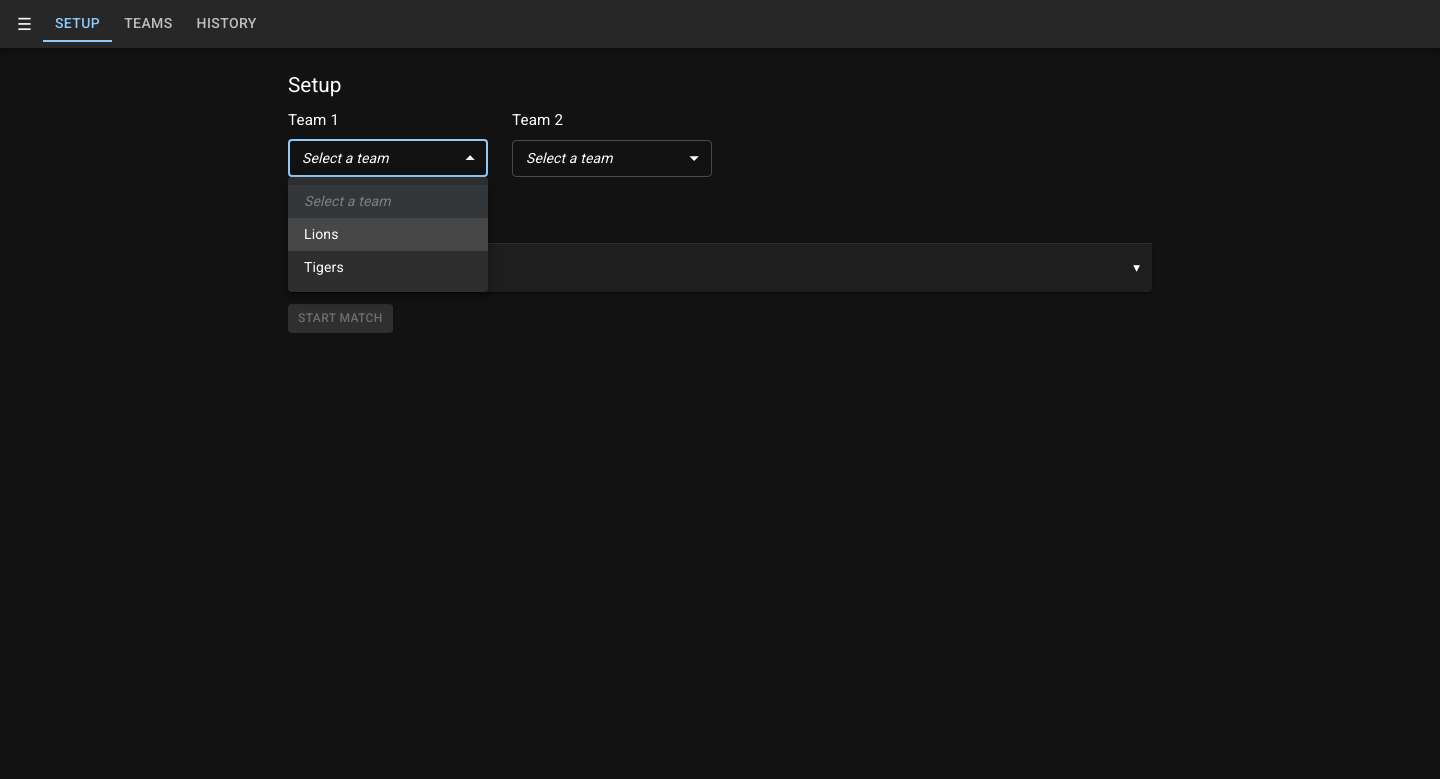
Test: App › reviews a finished match from History read-only and returns via Back to History
Earlier steps of the test are not shown.
Later steps or results of the test are not shown.
Step 1. Click the option "Lions" → (388, 234), box left=288, top=218, right=488, bottom=251
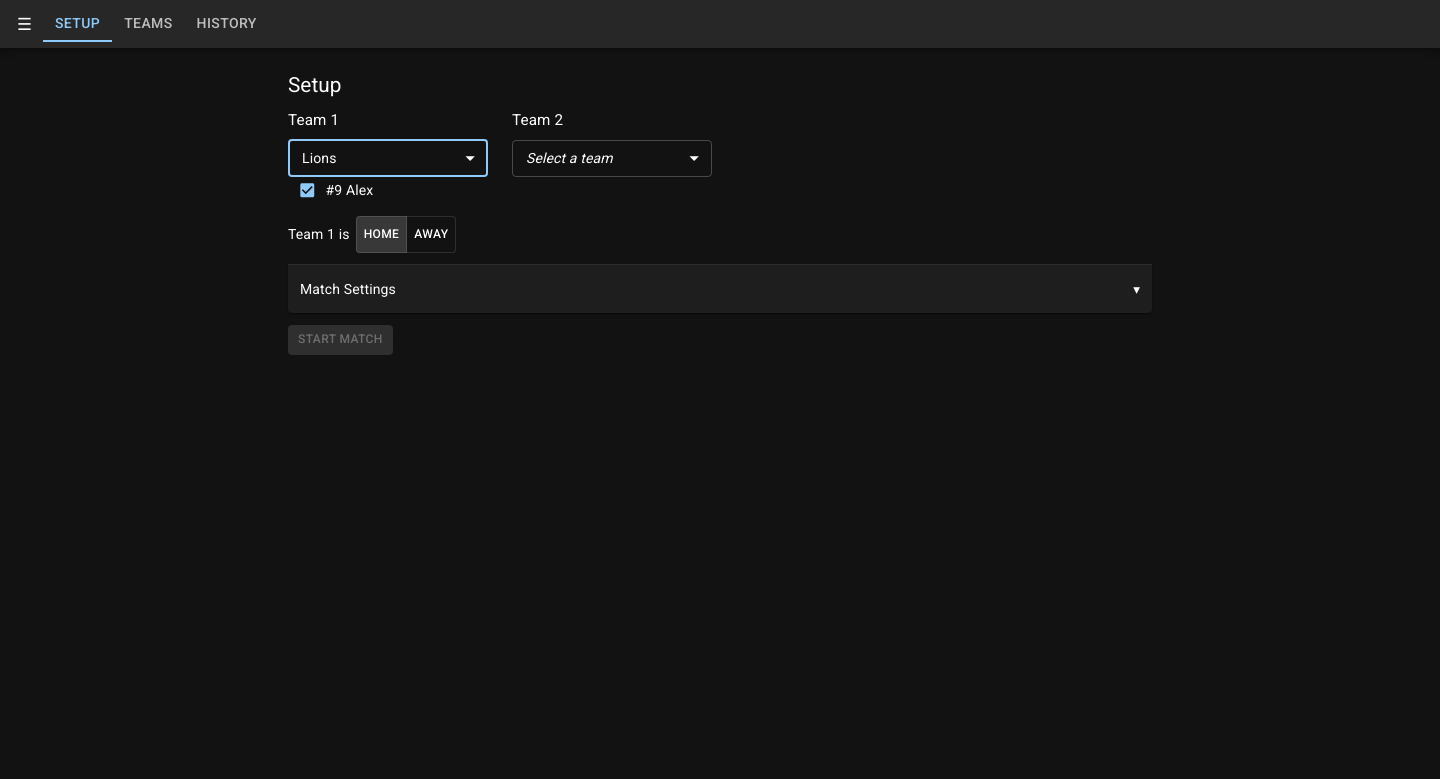
Step 2. Click the dropdown named "Team 2" → (569, 158), box left=526, top=150, right=613, bottom=166
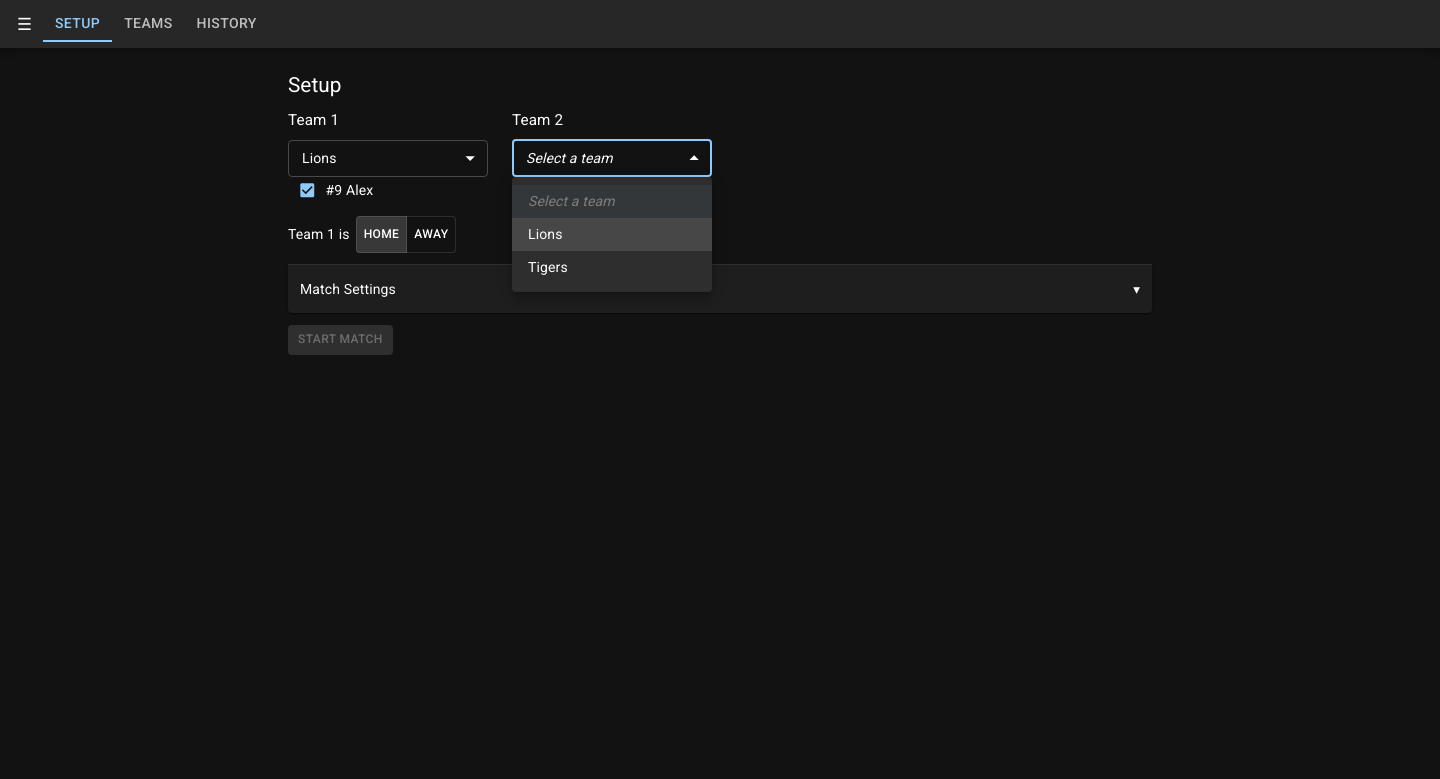
Step 3. Click the option "Tigers" → (548, 267), box left=528, top=259, right=568, bottom=275
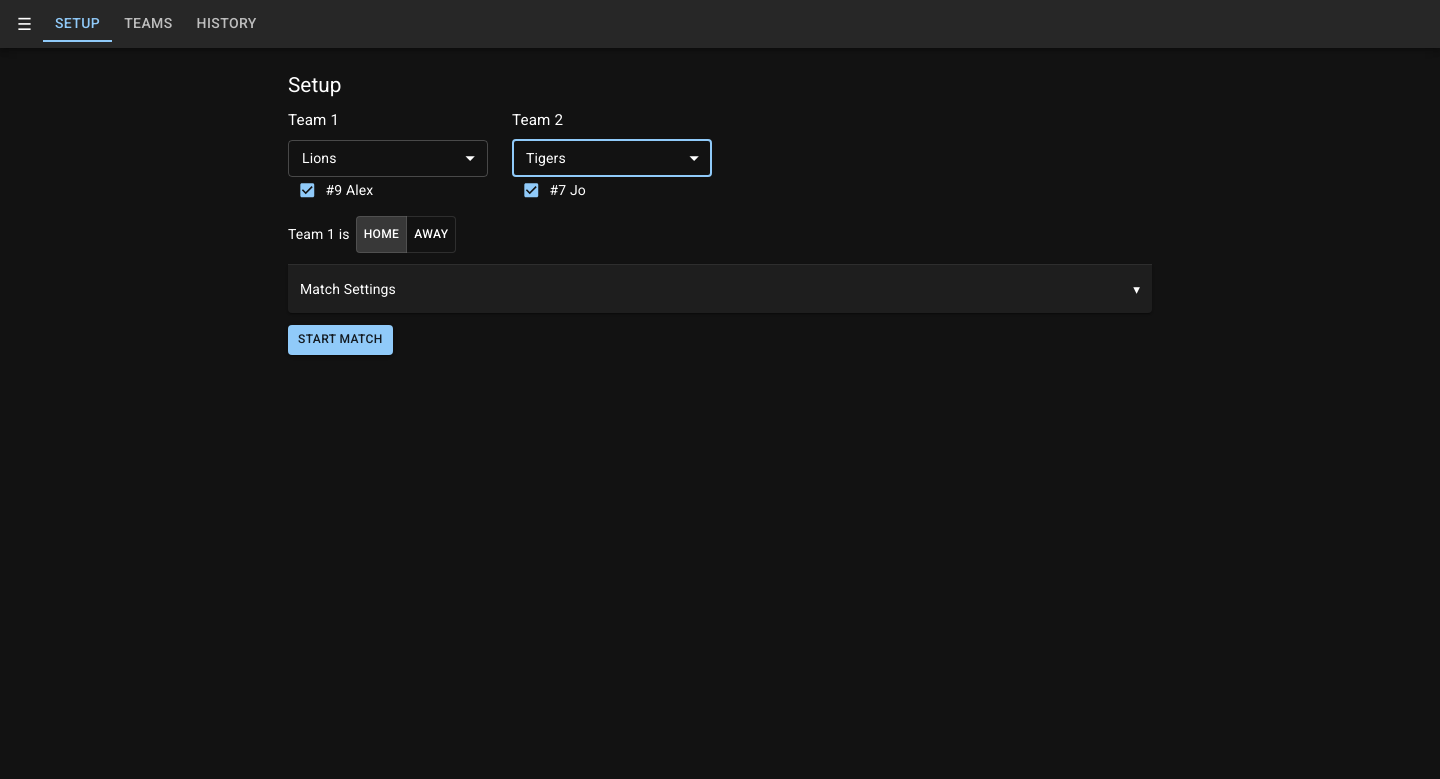
Step 4. Click the button "Start Match" → (340, 340), box left=288, top=325, right=393, bottom=354
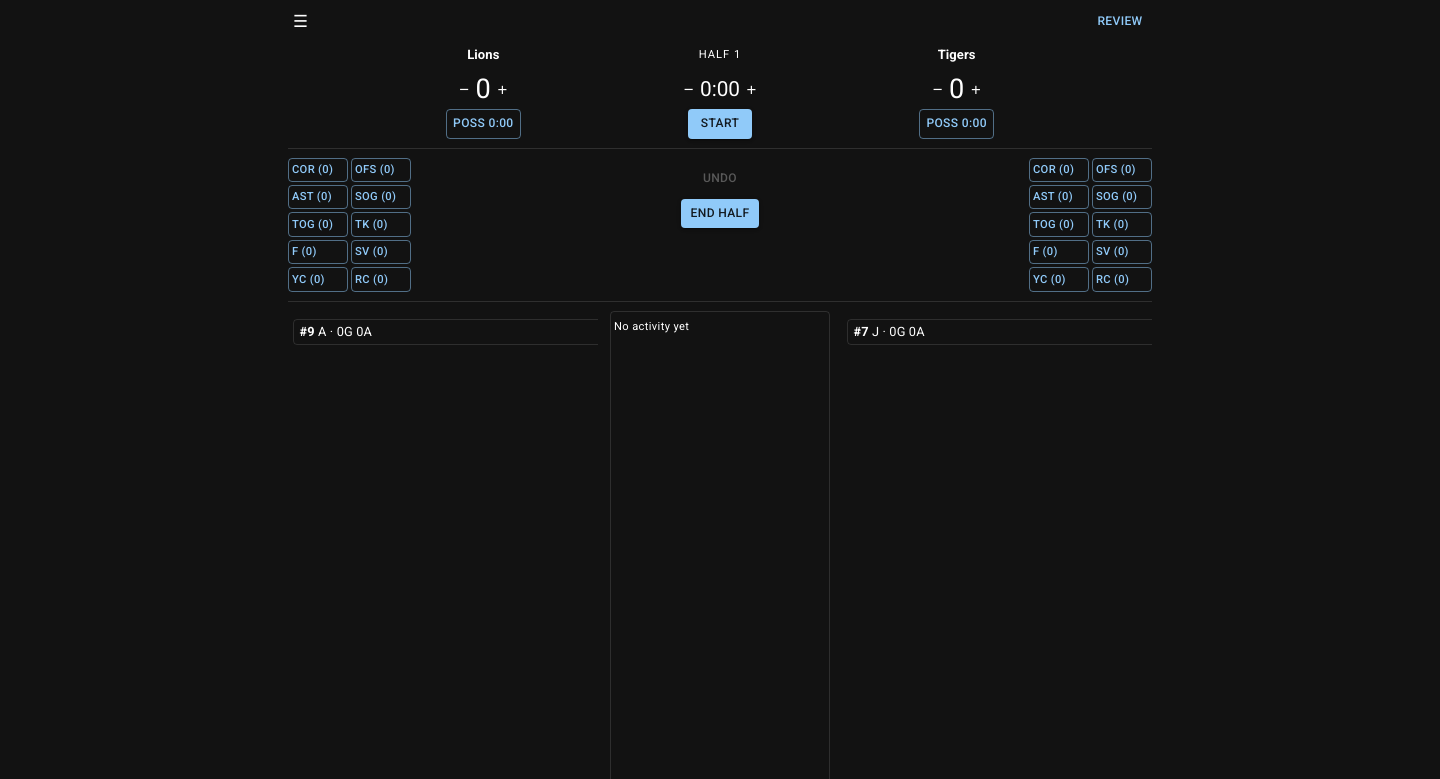
Step 5. Click the button "End Half" → (720, 213), box left=681, top=199, right=759, bottom=228
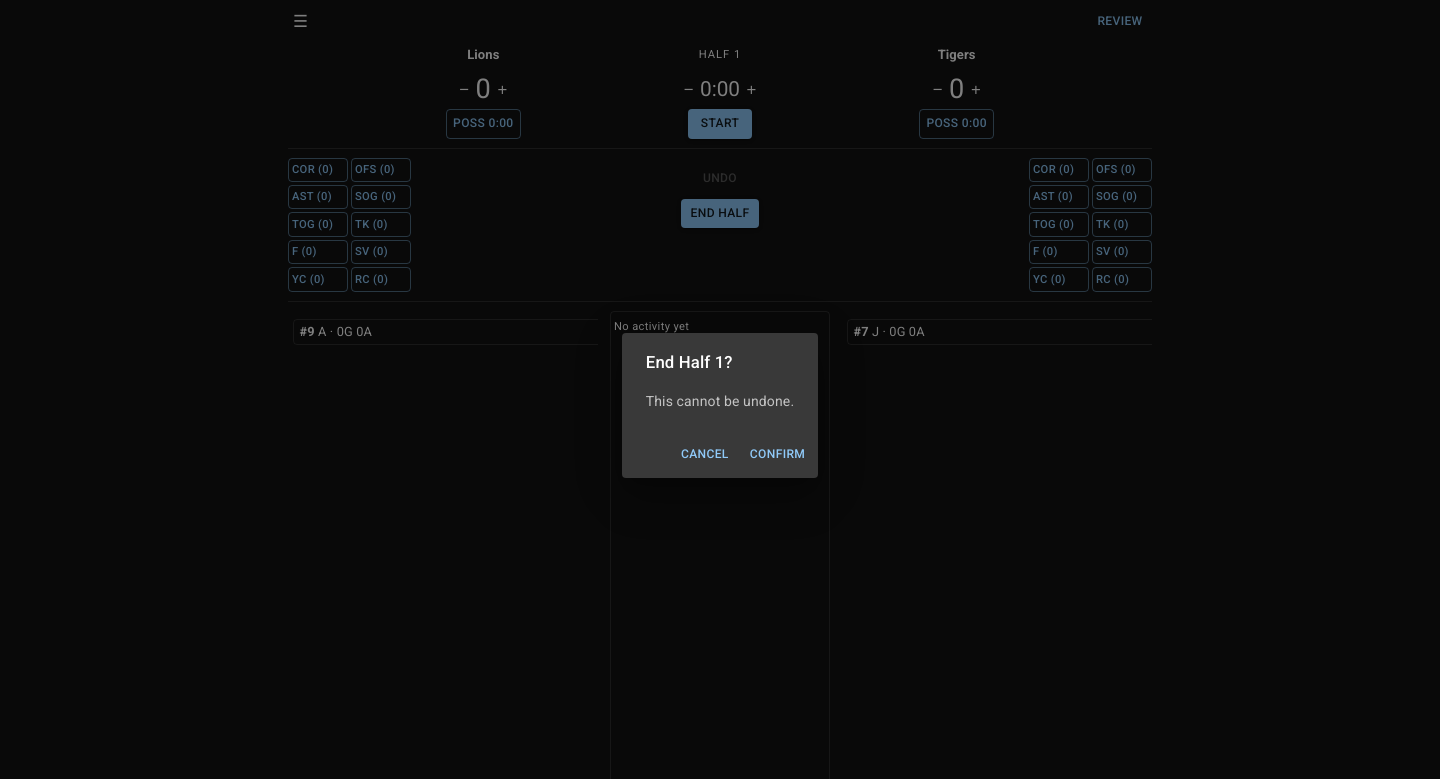
Step 6. Click the button "Confirm" → (778, 455), box left=745, top=440, right=810, bottom=470
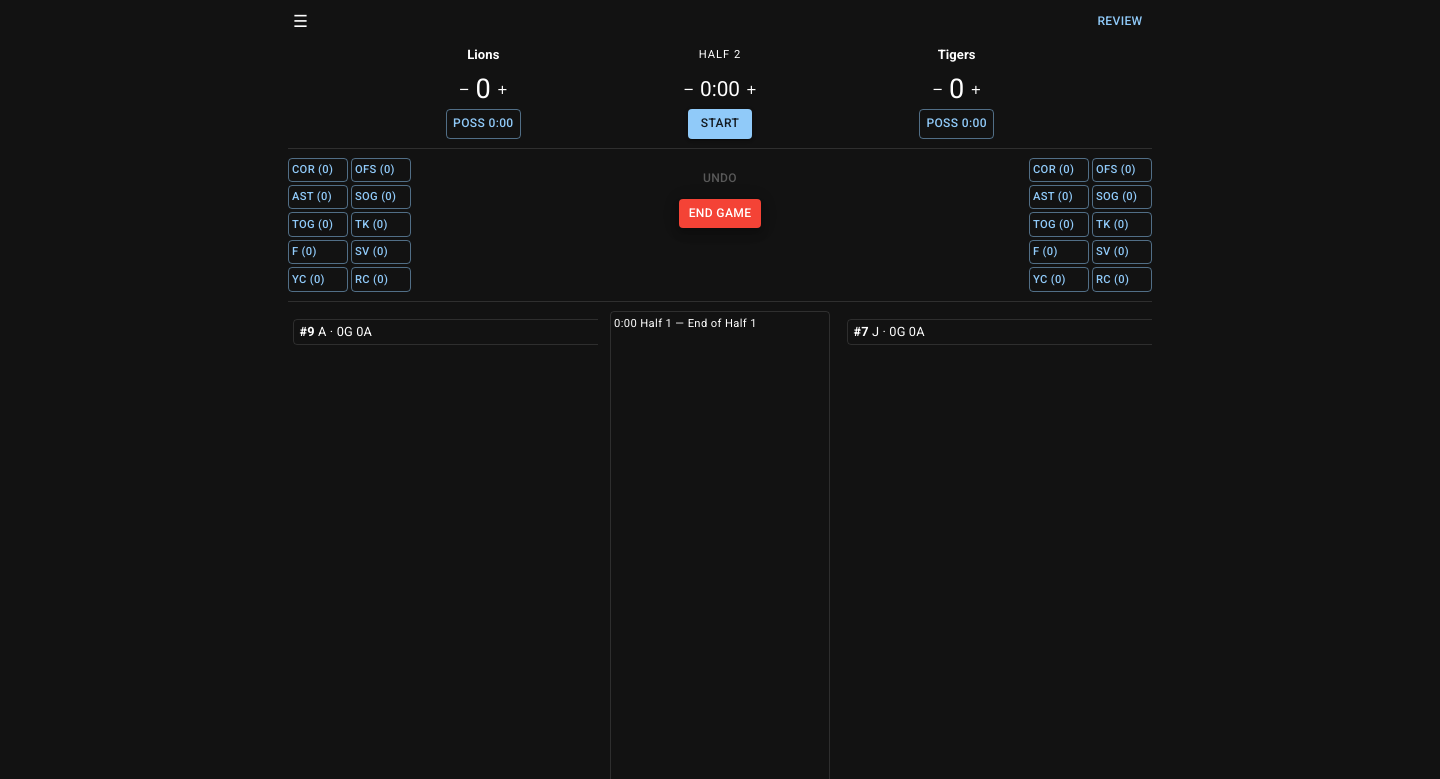
Result: the dialog is gone
